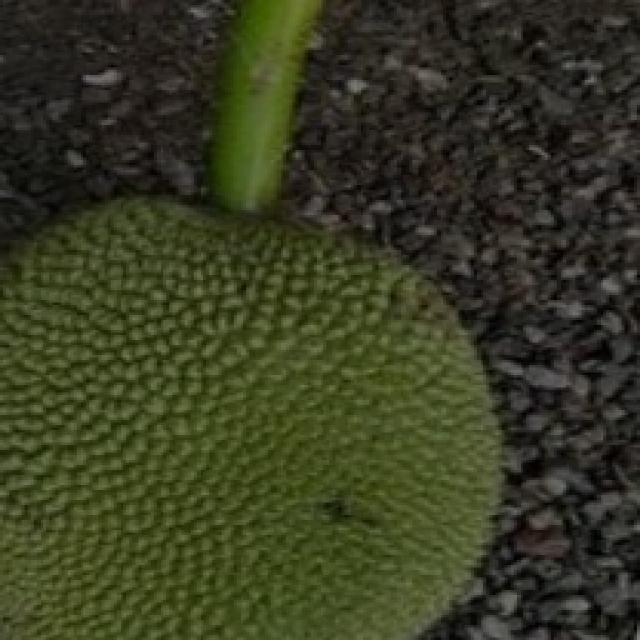Fruit: (0, 252, 382, 640), (240, 0, 640, 358), (234, 232, 548, 640)
